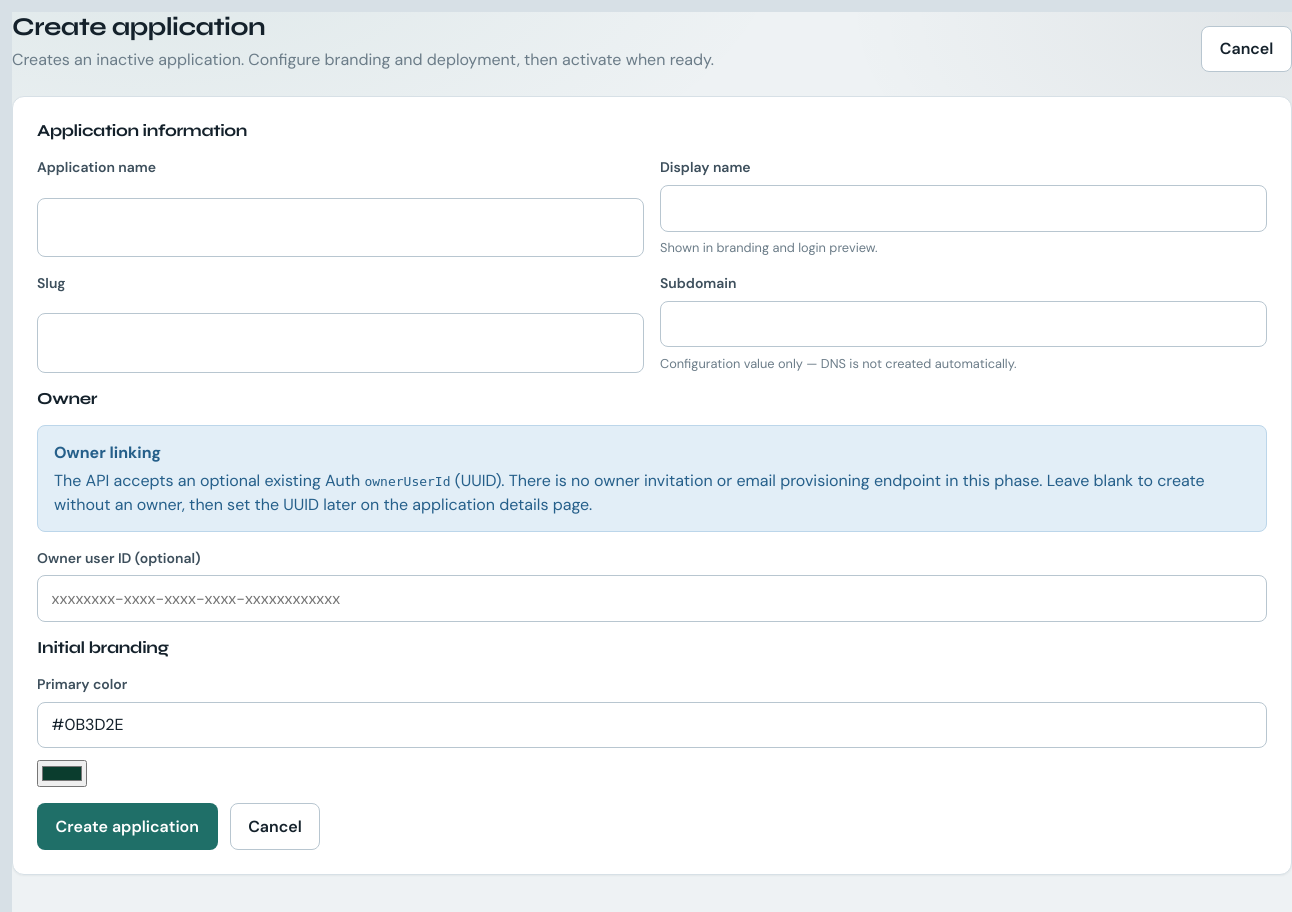
Test: Master applications › validates the create application form
Type "A" into the field labelled "Application name".
click(340, 227); type("A")  # box [37,198,644,257]
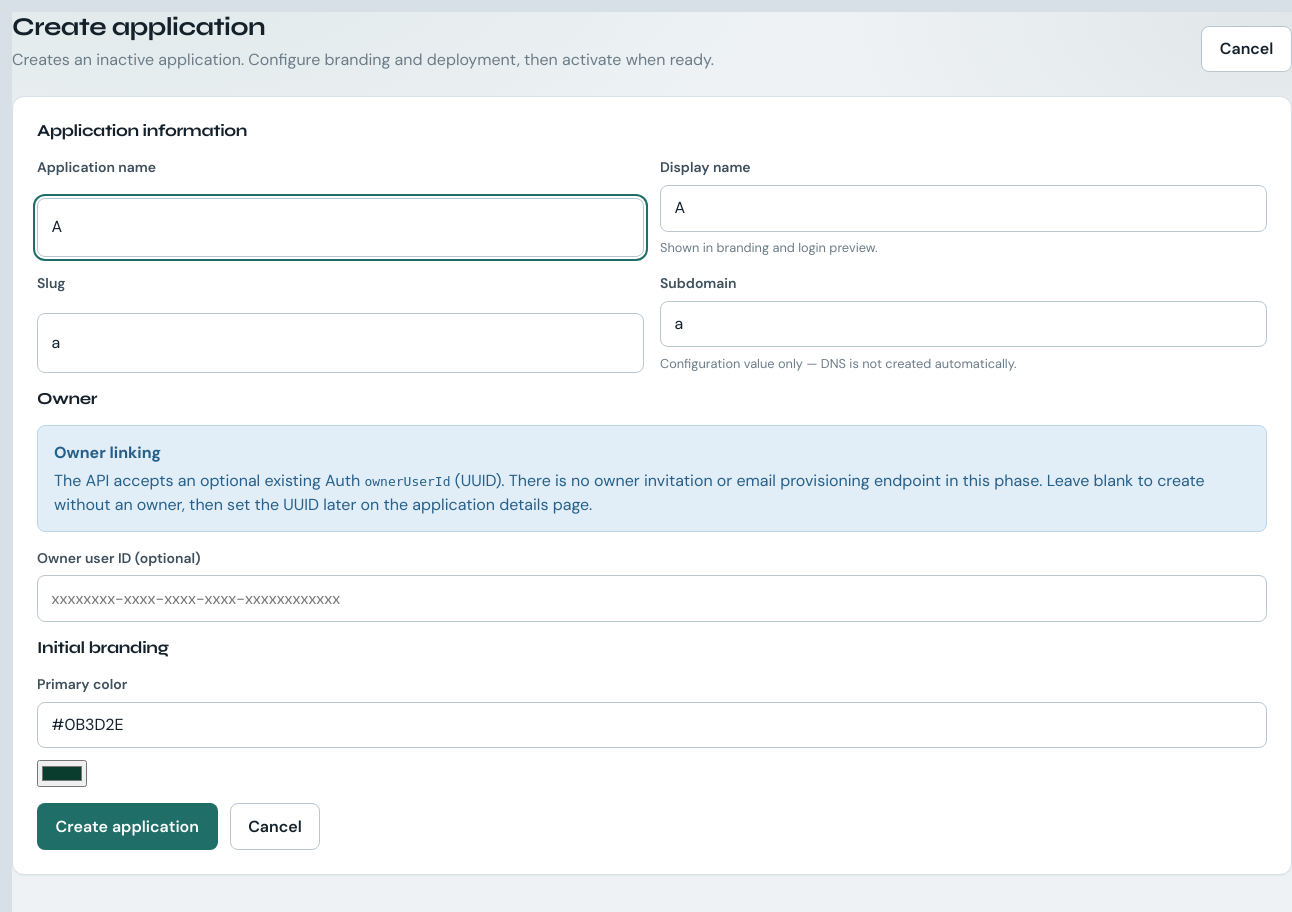
Click the button "Create application".
click(127, 827)  # box [37,803,218,850]
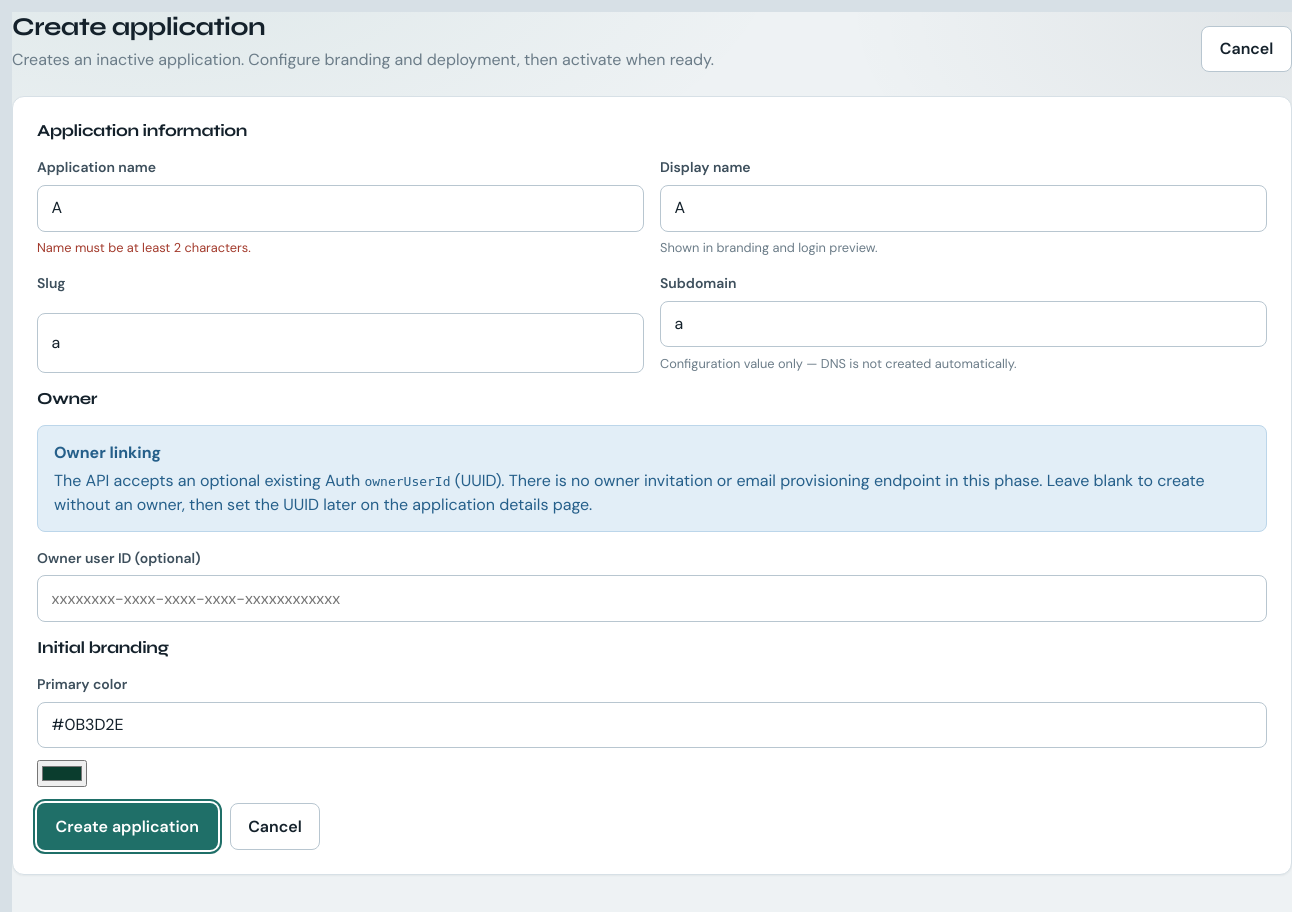
Expected: the text "Name must be at least 2 characters." is shown, [37,239,251,256]
